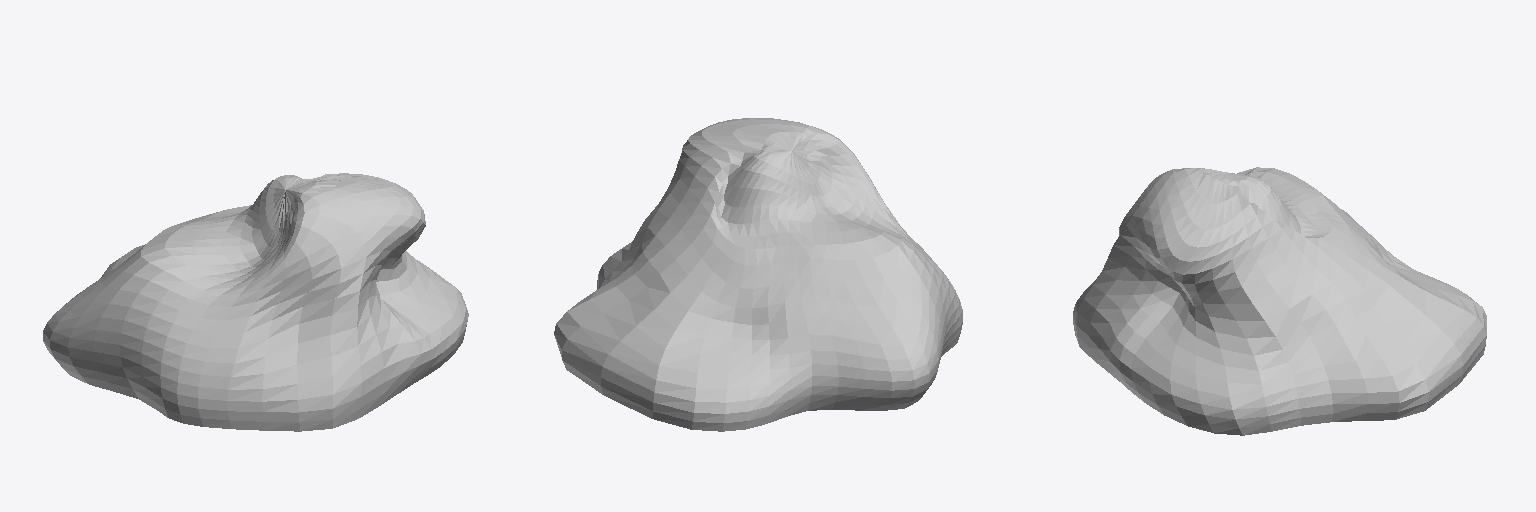
Rendered from rock_v2.obj.
3 views of the same model, side by side, from view 1: azimuth 30°, elevation 25°; view 2: azimuth 150°, elevation 25°; view 3: azimuth 270°, elevation 25° (orthographic).
Visible parts, largest first — view 1: pSphere1; view 2: pSphere1; view 3: pSphere1.
Part boxes in pixels (x1,y1,x2,y2): pSphere1: (43, 173, 468, 431); pSphere1: (554, 118, 962, 431); pSphere1: (1073, 167, 1486, 435).
Bounding box in the file's own units: 33.8 × 16.18 × 33.01.